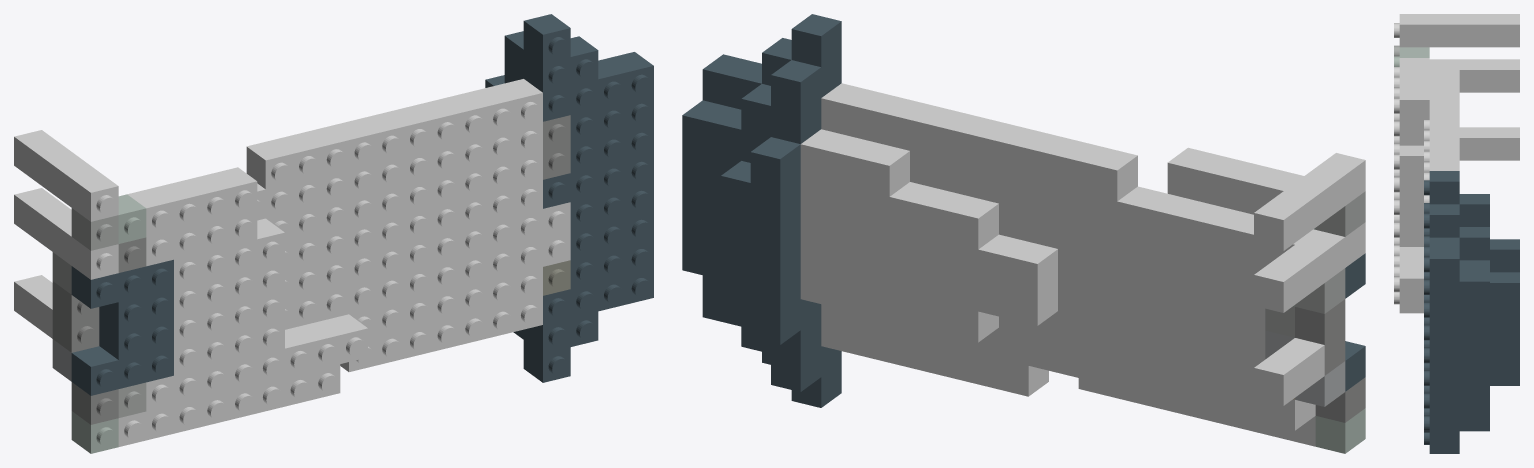
The model's file is full.glb.
The picture shows the model from 3 angles, left to right: view 1: azimuth 30°, elevation 25°; view 2: azimuth 150°, elevation 25°; view 3: azimuth 270°, elevation 25°; orthographic projection. The views are drawn at different scales.
Visible parts, largest first — view 1: world; view 2: world; view 3: world.
Boxes of the visible parts, x1,y1,x2,y2 form: world: [14, 14, 653, 453]; world: [682, 14, 1365, 453]; world: [1394, 14, 1519, 453].
Bounding box in the file's own units: 168 × 96 × 40.2.
